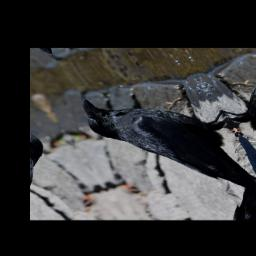Crow: (69, 69, 256, 213)
